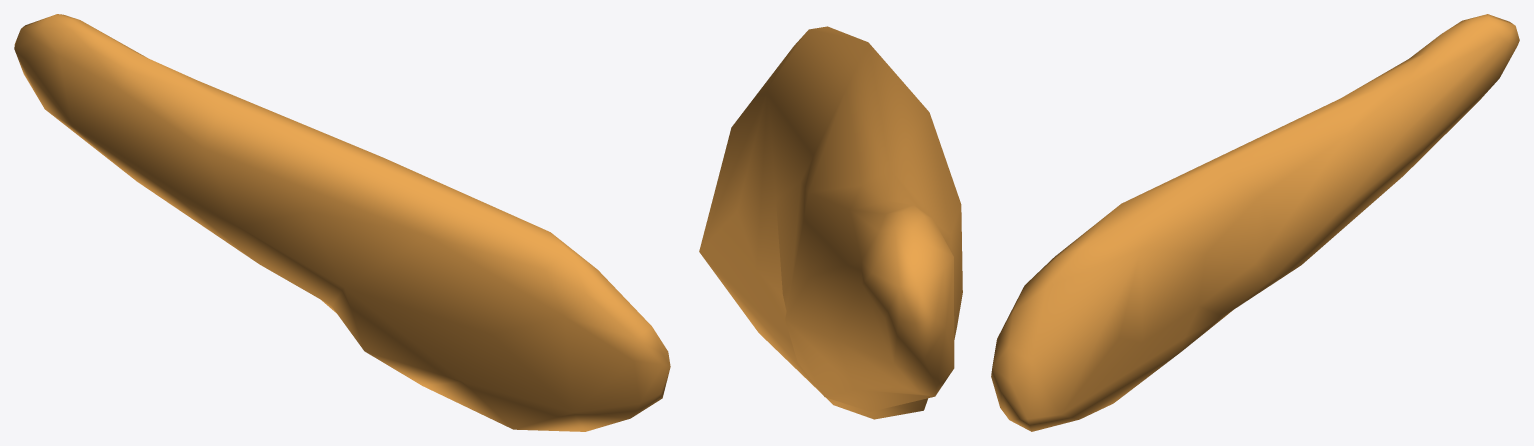
The model's file is visceras-sublingual-gland-r.glb.
3 views of the same model, side by side, from view 1: azimuth 30°, elevation 25°; view 2: azimuth 150°, elevation 25°; view 3: azimuth 270°, elevation 25° (orthographic). The views are drawn at different scales.
Parts seen in each view (by area): view 1: Sublingual gland.r; view 2: Sublingual gland.r; view 3: Sublingual gland.r.
Part boxes in pixels (<box>): Sublingual gland.r: <box>14,14,670,431</box>; Sublingual gland.r: <box>699,26,962,419</box>; Sublingual gland.r: <box>991,14,1519,431</box>.
Bounding box in the file's own units: 0.0163 × 0.0126 × 0.0212.
